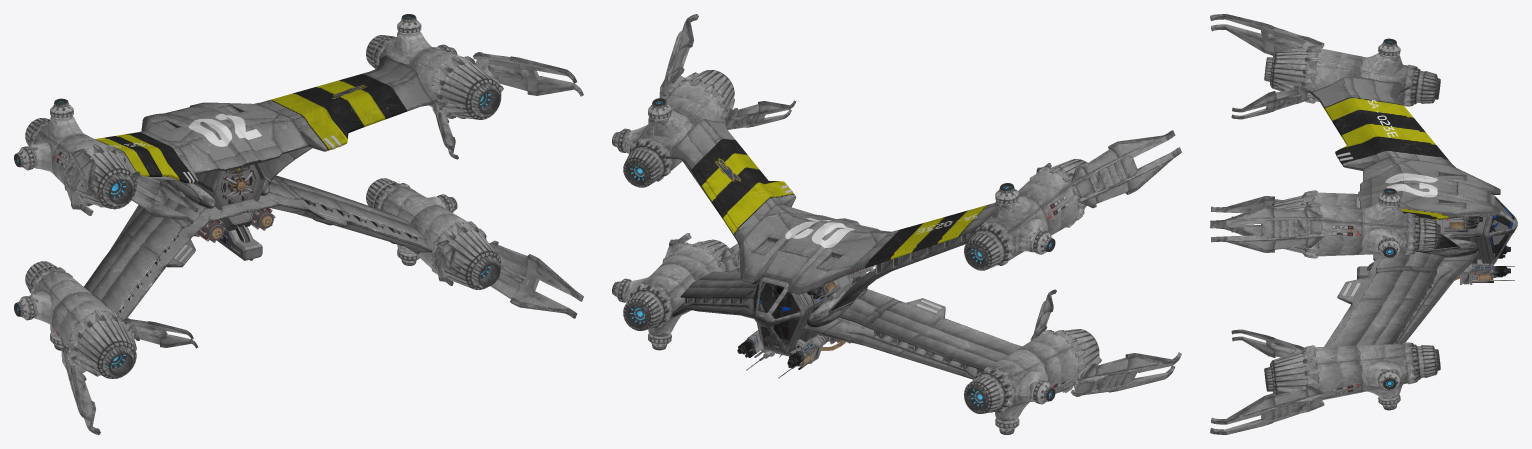
File: starfury-detail.glb
3 views of the same model, side by side, from view 1: azimuth 30°, elevation 25°; view 2: azimuth 150°, elevation 25°; view 3: azimuth 270°, elevation 25° (orthographic). The views are drawn at different scales.
Parts seen in each view (by area): view 1: starfury; view 2: starfury; view 3: starfury.
Boxes of the visible parts, x1=… form: starfury: x1=14, y1=14, x2=583, y2=434; starfury: x1=612, y1=14, x2=1181, y2=434; starfury: x1=1210, y1=14, x2=1517, y2=434.
Bounding box in the file's own units: 28 × 13.43 × 17.01.
12 materials, 6 textured.
